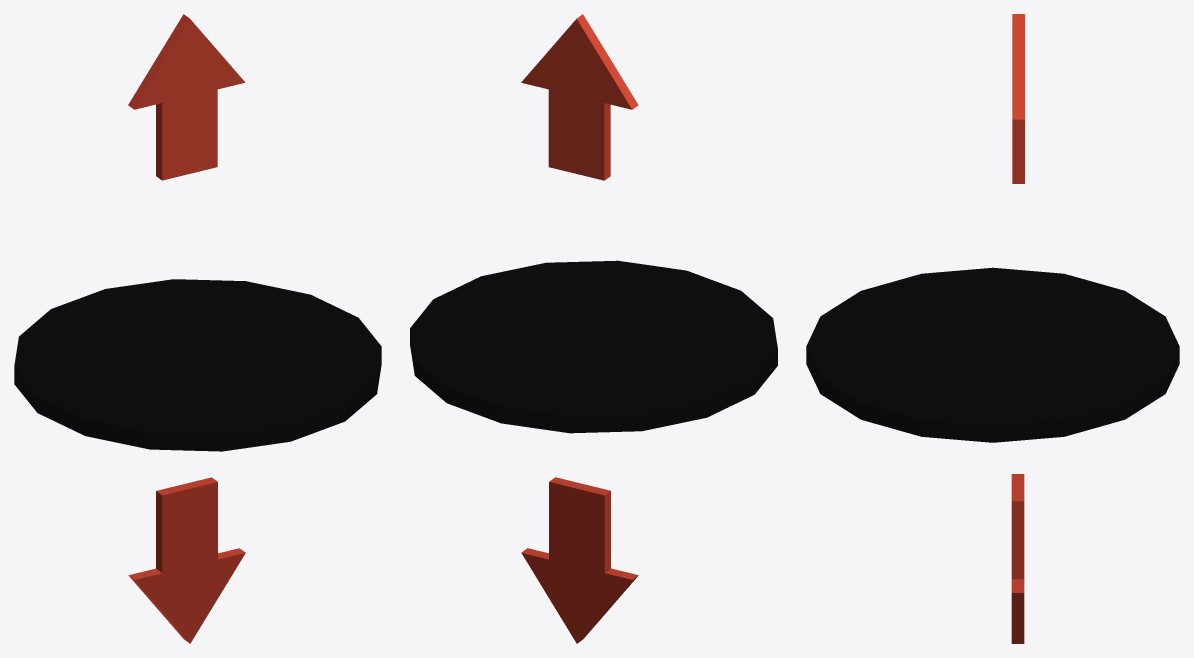
File: Vertical_Black_Pad.glb
3 renders of one model, left to right at view 1: azimuth 30°, elevation 25°; view 2: azimuth 150°, elevation 25°; view 3: azimuth 270°, elevation 25°, orthographic.
Parts seen in each view (by area): view 1: Cylinder.024, Plane, Plane.001; view 2: Cylinder.024, Plane.001, Plane; view 3: Cylinder.024, Plane, Plane.001.
Part boxes in pixels (bbox=[...]): Cylinder.024: bbox=[14, 279, 381, 451]; Plane: bbox=[128, 477, 245, 643]; Plane.001: bbox=[128, 14, 244, 180]; Cylinder.024: bbox=[410, 260, 777, 433]; Plane.001: bbox=[521, 14, 638, 180]; Plane: bbox=[521, 477, 638, 643]; Cylinder.024: bbox=[806, 267, 1179, 442]; Plane: bbox=[1011, 474, 1024, 643]; Plane.001: bbox=[1012, 14, 1024, 183].
Bounding box in the file's own units: 2 × 3.72 × 2.
Materials: 2 (2 with a texture image).
